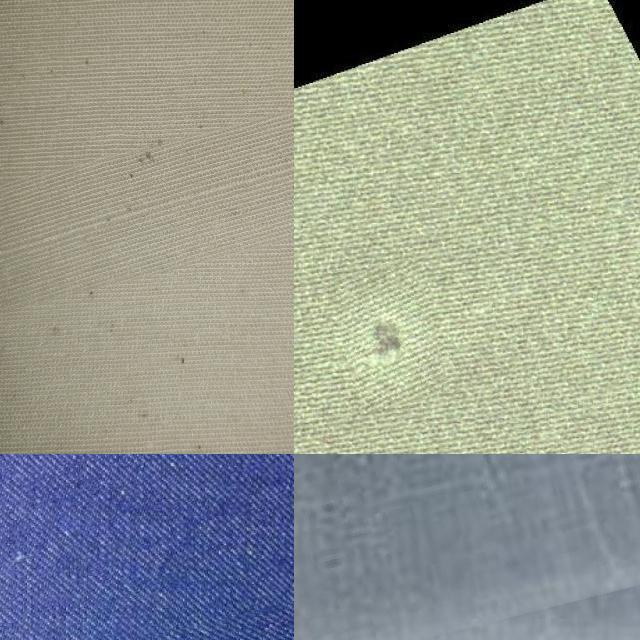other: (334, 260, 442, 409)
stains: (294, 454, 640, 640), (0, 99, 294, 294), (0, 583, 294, 640)
